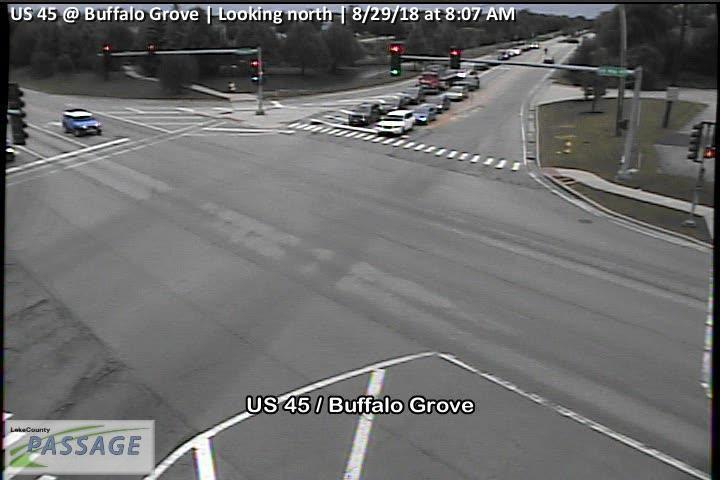SUV: (63, 108, 102, 137), (377, 110, 415, 137), (348, 102, 380, 126), (424, 93, 450, 114), (452, 74, 479, 92)
Sedan: (413, 104, 438, 126), (376, 95, 404, 114), (400, 85, 425, 104), (444, 84, 469, 101)
Truck: (416, 69, 461, 95)
